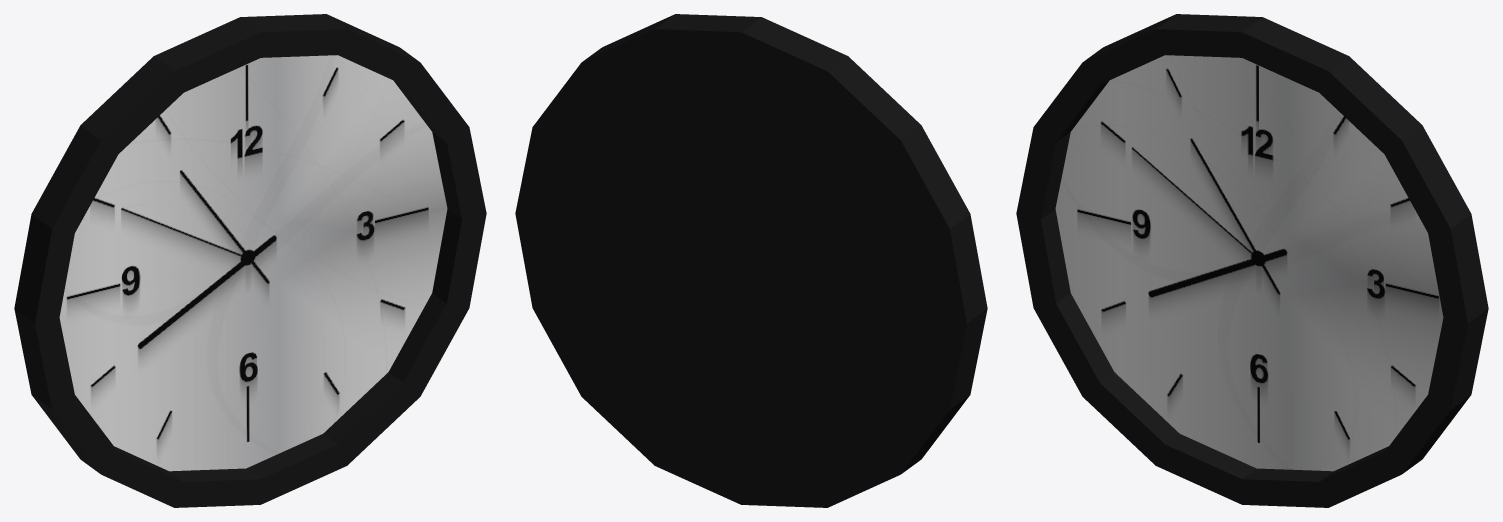
Rendered from clock.fbx.
3 views of the same model, side by side, from view 1: azimuth 30°, elevation 25°; view 2: azimuth 150°, elevation 25°; view 3: azimuth 330°, elevation 25° (orthographic).
Visible parts, largest first — view 1: Cylinder; view 2: Cylinder; view 3: Cylinder.
Part boxes in pixels (box(x1,y1,x2,y2)): Cylinder: box(14, 14, 486, 507); Cylinder: box(515, 14, 987, 507); Cylinder: box(1016, 14, 1488, 507).
Bounding box in the file's own units: 30 × 30 × 2.38.
